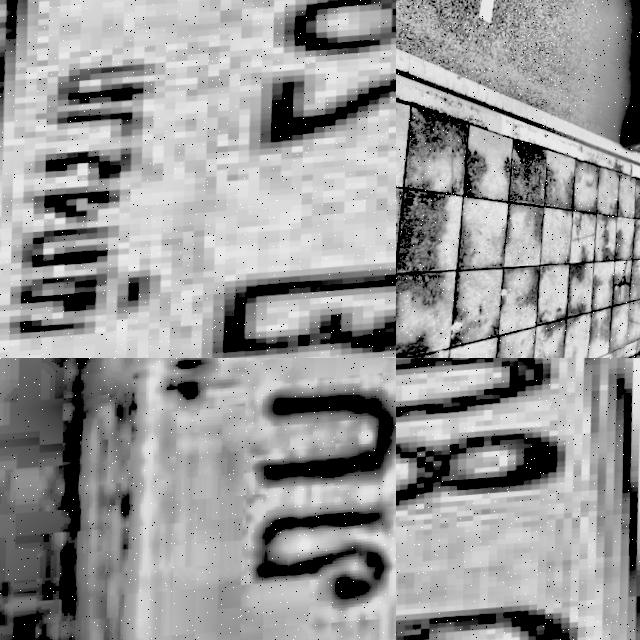license-plate: (0, 0, 396, 358), (54, 358, 396, 640), (396, 358, 640, 640)
